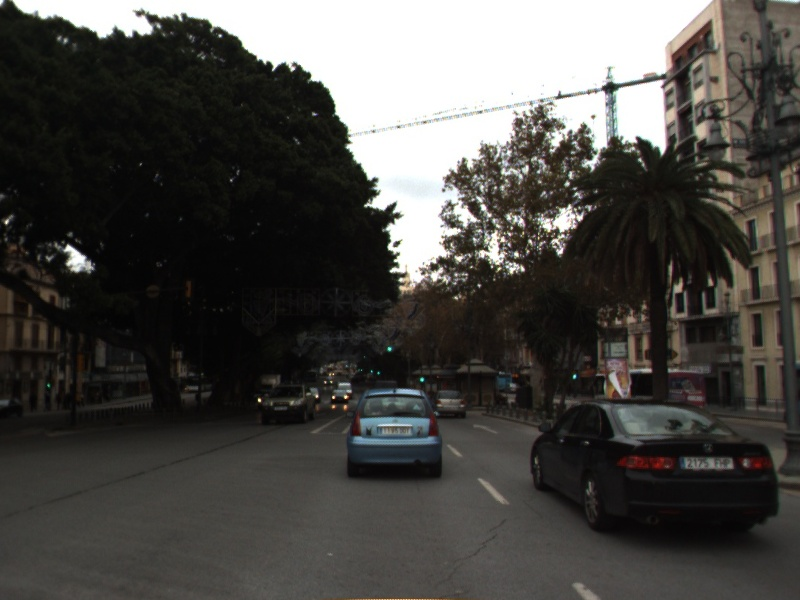STRAIGHT: (471, 421, 500, 436)
